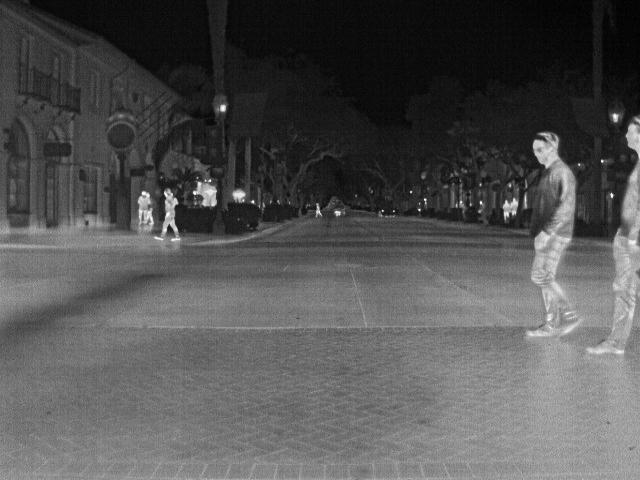car: (378, 204, 398, 218), (332, 204, 350, 218)
person: (583, 114, 640, 358), (523, 130, 578, 342), (154, 188, 183, 244), (135, 191, 147, 226), (145, 192, 157, 225), (478, 198, 487, 221), (313, 200, 325, 216), (502, 199, 510, 223), (512, 196, 518, 215)
